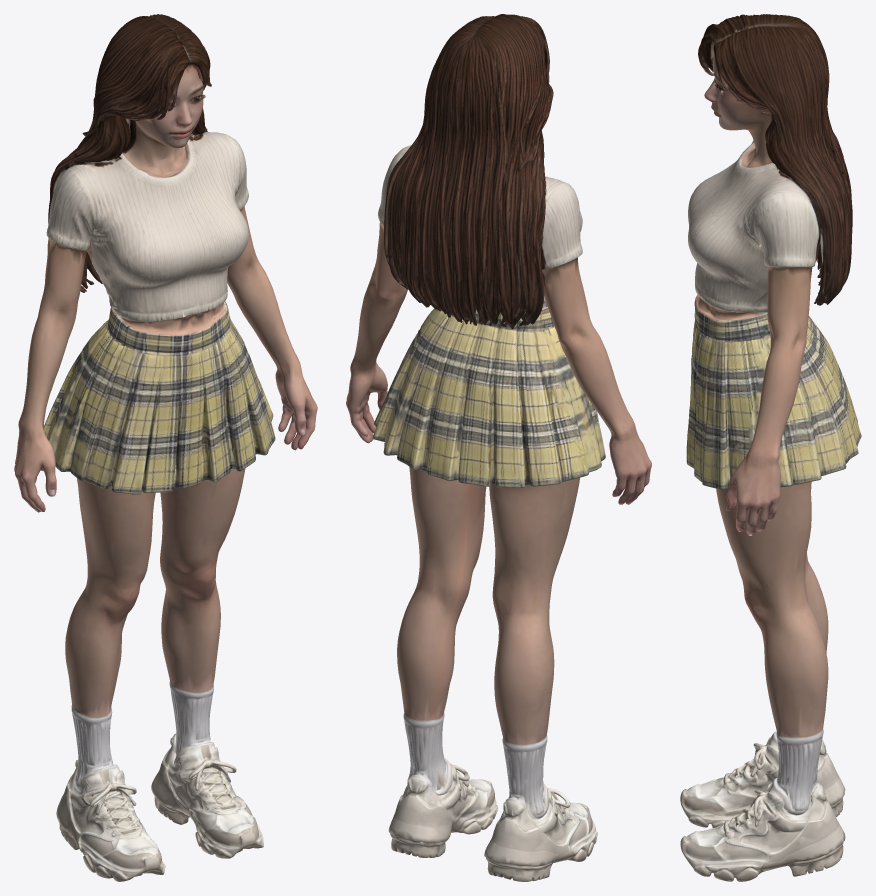
Rendered from female.glb.
3 renders of one model, left to right at view 1: azimuth 30°, elevation 25°; view 2: azimuth 150°, elevation 25°; view 3: azimuth 270°, elevation 25°, orthographic.
Parts seen in each view (by area): view 1: Dada_female_complete_outfit; view 2: Dada_female_complete_outfit; view 3: Dada_female_complete_outfit.
Part boxes in pixels (box(x1,y1,x2,y2)): Dada_female_complete_outfit: box(14, 14, 317, 881); Dada_female_complete_outfit: box(346, 14, 651, 881); Dada_female_complete_outfit: box(680, 14, 861, 881).
Bounding box in the file's own units: 0.3692 × 0.9793 × 0.1947.
1 material, 1 textured.
